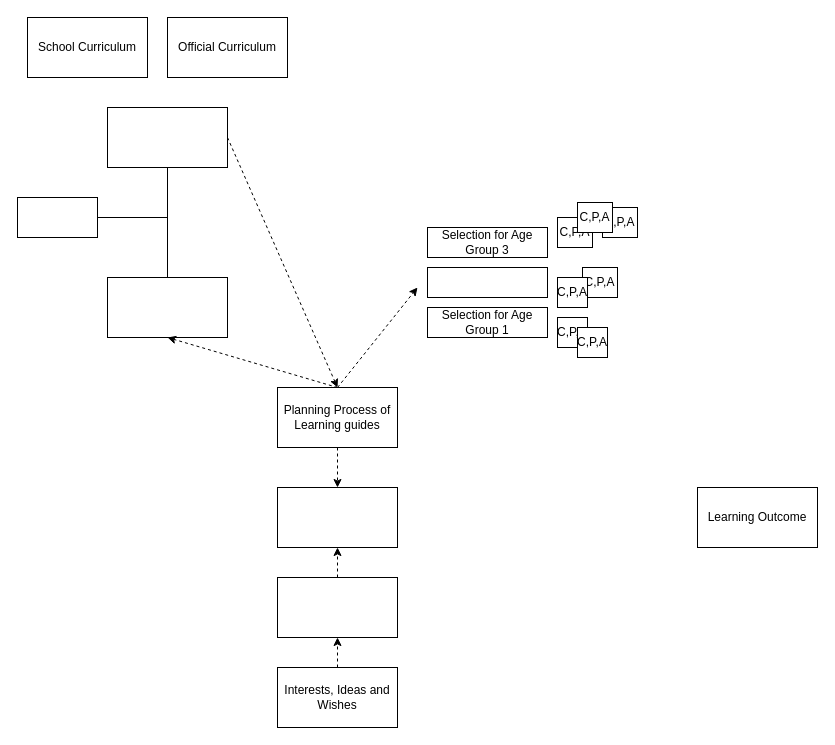
The diagram is 835 pixels wide and 745 high, and some of its shapes have lost their labels. Here are the shapes that lost their labels. From the top down, the box of each, then its label:
(106, 106, 228, 168): Curriculum in Total
(16, 196, 98, 238): Competence Profile
(426, 266, 548, 298): Selection for Age Group 2
(106, 276, 228, 338): Courses, Projects, Activities
(276, 486, 398, 548): Agreed Individual Goals
(276, 576, 398, 638): Planning Process of Student
